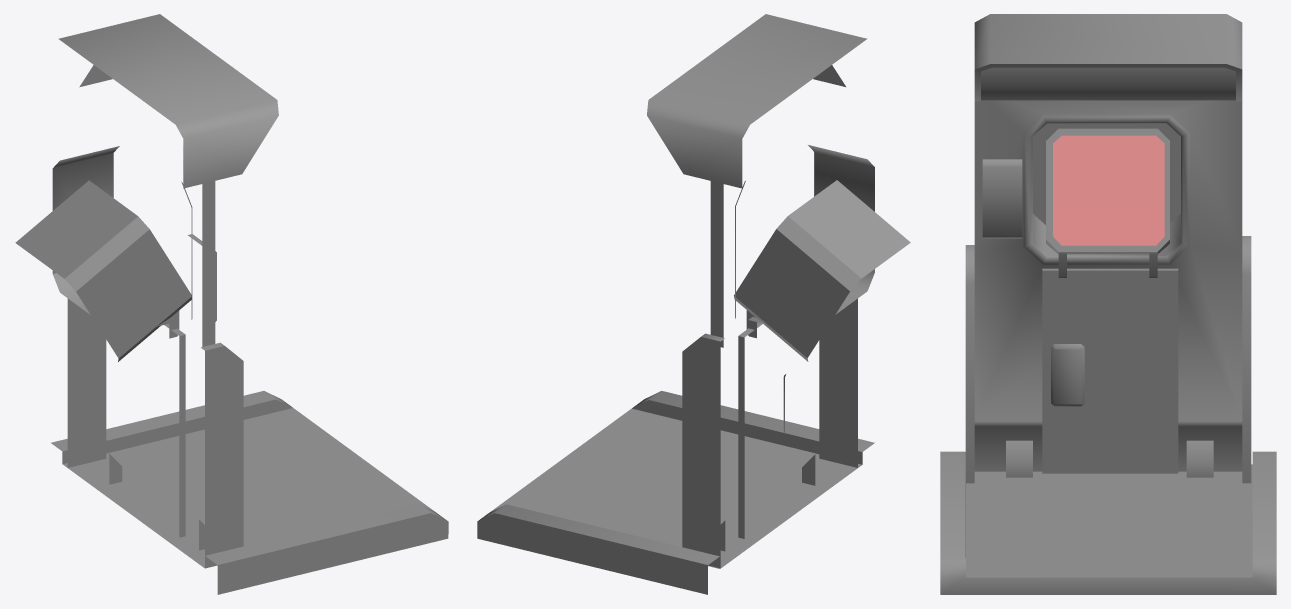
Rendered from S_Envi_Hongta_Building_005.gltf.
3 renders of one model, left to right at view 1: azimuth 30°, elevation 25°; view 2: azimuth 150°, elevation 25°; view 3: azimuth 270°, elevation 25°, orthographic.
Visible parts, largest first — view 1: S_Envi_Hongta_Building_005; view 2: S_Envi_Hongta_Building_005; view 3: S_Envi_Hongta_Building_005.
Boxes of the visible parts, bbox=[...] form: S_Envi_Hongta_Building_005: bbox=[15, 14, 448, 594]; S_Envi_Hongta_Building_005: bbox=[477, 14, 910, 594]; S_Envi_Hongta_Building_005: bbox=[940, 14, 1276, 594].
Size of the model in its own units: 1.82 by 2.44 by 1.62.
